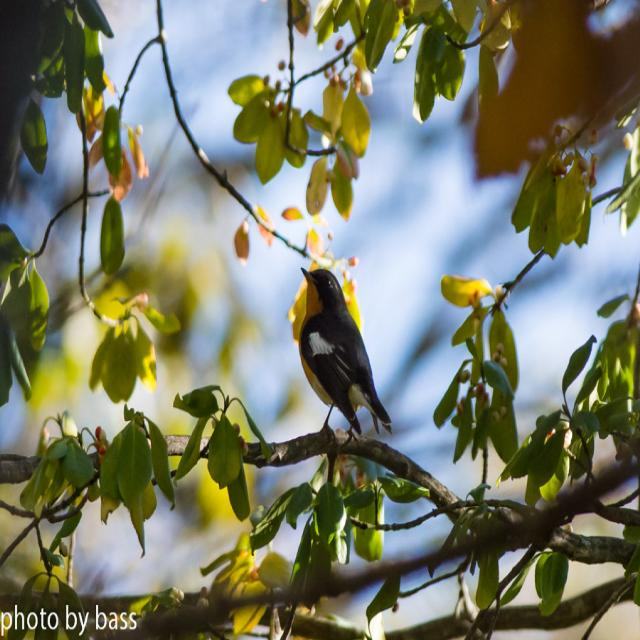bird: (289, 247, 392, 437)
